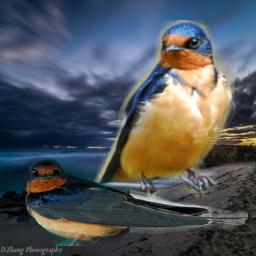Swallow: (66, 20, 235, 241), (19, 154, 248, 246)
